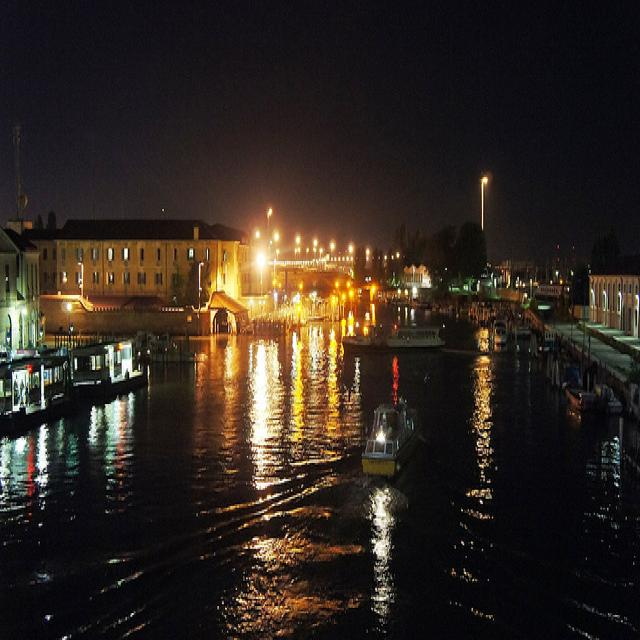Boat: (0, 347, 84, 456), (364, 382, 418, 495), (558, 373, 628, 445), (76, 334, 124, 413), (357, 315, 448, 356), (152, 334, 211, 379), (506, 302, 535, 355), (485, 318, 513, 360)
